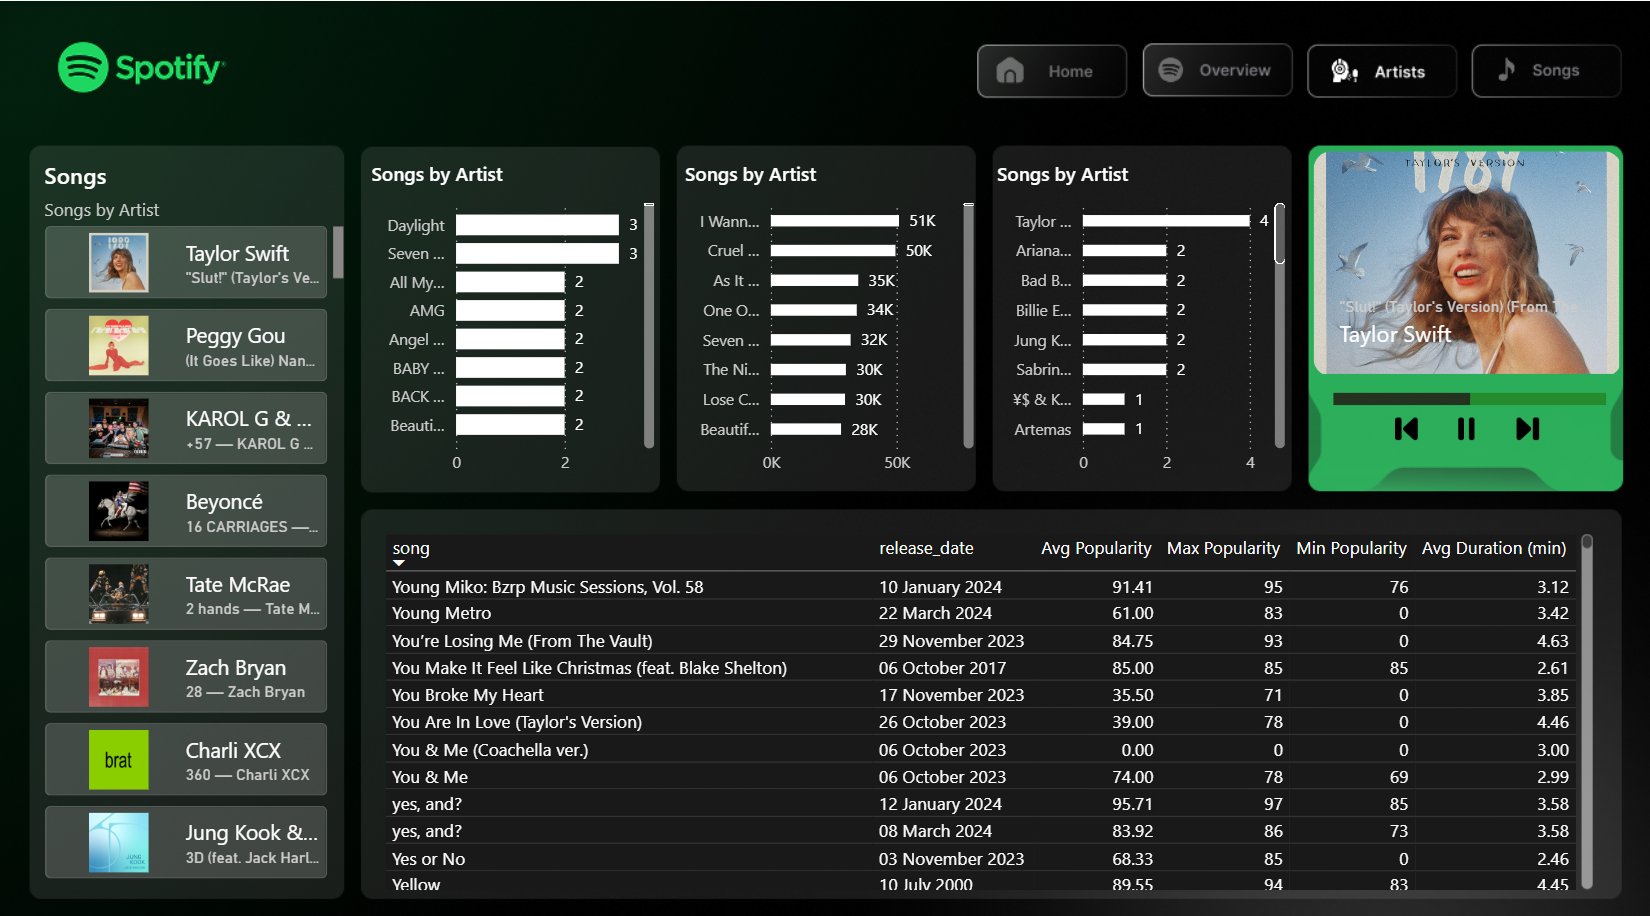

This screenshot's page, from the dashboard's own definition file:
{"tool":"powerbi","page":{"name":"Songs","canvas":[1280,720],"ordinal":3},"visuals":[{"type":"actionButton","box":[756.7,32.4,115.9,41.7],"z":0},{"type":"image","box":[1160.7,315.2,40,30],"z":0,"group":"g1"},{"type":"actionButton","box":[881.8,32.4,115.9,40.6],"z":1000},{"type":"image","box":[1067.2,315.2,40,30],"z":1000,"group":"g1"},{"type":"actionButton","box":[1137.9,32.4,115.9,40.6],"z":2000},{"type":"image","box":[1114,315.2,40,30],"z":2000,"group":"g1"},{"type":"actionButton","box":[1011.6,32.4,118.2,41.7],"z":3000},{"type":"advancedSlicerVisual","title":"Songs","fields":{"Values":["Top-50-World.Song_Artist"]},"box":[989.6,110.1,288.5,184.2],"z":4000},{"type":"hundredPercentStackedBarChart","fields":{"Y":["_Measures.Average_Popularity","Avg(Top-50-World.popularity)"]},"box":[1025.5,263,221.3,82.3],"z":5000},{"type":"group","id":"g1","title":"Group 1","box":[1067.2,315.2,134.4,30.1],"z":6000},{"type":"shape","box":[1015,110.1,237.5,264.2],"z":7000},{"type":"clusteredBarChart","title":" Songs by Artist","fields":{"Category":["Top-50-World.artist"],"Y":["_Measures.Distinct Songs"]},"box":[282.7,122.8,228.3,251.4],"z":8000},{"type":"clusteredBarChart","title":" Songs by Artist","fields":{"Category":["Top-50-World.song"],"Y":["Sum(Top-50-World.popularity)"]},"box":[524.9,122.8,232.9,251.4],"z":9000},{"type":"advancedSlicerVisual","title":"Songs","fields":{"Values":["Top-50-World.Song_Artist"]},"box":[30.1,122.8,241,565.5],"z":10000},{"type":"clusteredBarChart","title":" Songs by Artist","fields":{"Category":["Top-50-World.song"],"Y":["Sum(Top-50-World.popularity)"]},"box":[770.6,120.5,232.9,251.4],"z":11000},{"type":"tableEx","fields":{"Values":["Top-50-World.artist","Top-50-World.album_type","_Measures.Distinct Songs","_Measures.Albums Entries","_Measures.Position 1 Hits per Artist","_Measures.Average_Popularity","_Measures.Max Popularity","_Measures.Average Duration (min)"]},"box":[294.2,405.3,952.1,282.9],"z":12000},{"type":"actionButton","box":[0,0,100,40],"z":12001}]}

Visuals, with their boxes in screenshot pixels (x1, y1, x2, y2), scaled from the page's 1280x720 canvas onto the 1650x916 screenshot:
actionButton: rect(975, 41, 1125, 94)
image: rect(1496, 401, 1548, 439)
actionButton: rect(1137, 41, 1286, 93)
image: rect(1376, 401, 1427, 439)
actionButton: rect(1467, 41, 1616, 93)
image: rect(1436, 401, 1488, 439)
actionButton: rect(1304, 41, 1456, 94)
"Songs" advancedSlicerVisual: rect(1276, 140, 1648, 374)
hundredPercentStackedBarChart - _Measures.Average_Popularity x Avg(Top-50-World.popularity): rect(1322, 335, 1607, 439)
"Group 1" group: rect(1376, 401, 1549, 439)
shape: rect(1308, 140, 1615, 476)
" Songs by Artist" clusteredBarChart: rect(364, 156, 659, 476)
" Songs by Artist" clusteredBarChart: rect(677, 156, 977, 476)
"Songs" advancedSlicerVisual: rect(39, 156, 349, 876)
" Songs by Artist" clusteredBarChart: rect(993, 153, 1294, 473)
tableEx - Top-50-World.artist x Top-50-World.album_type: rect(379, 516, 1607, 876)
actionButton: rect(0, 0, 129, 51)
